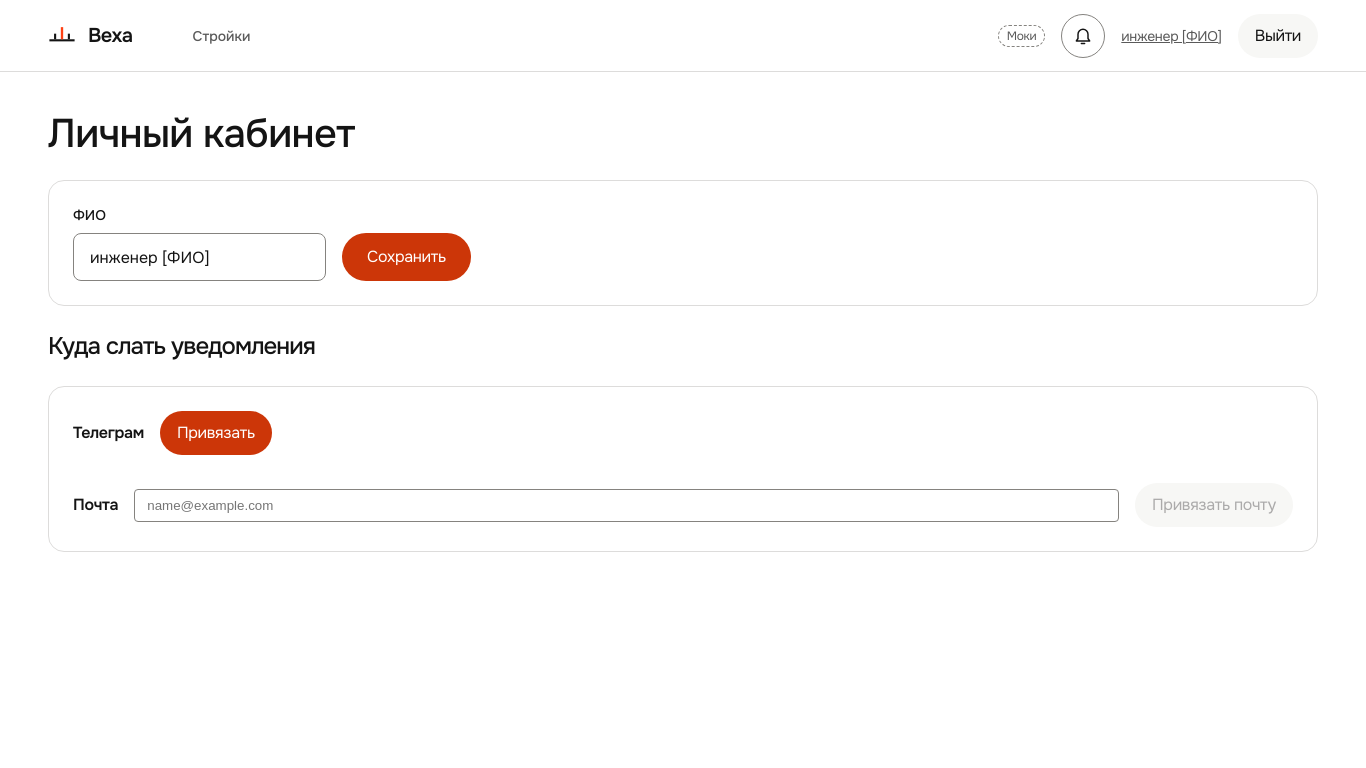
Личный кабинет › почта › после отправки просит перейти по ссылке из письма
The width and height of the screenshot is (1366, 768).
In the field named "Адрес почты": (627, 505) [134,488,1119,522], type "ivan@example.com"
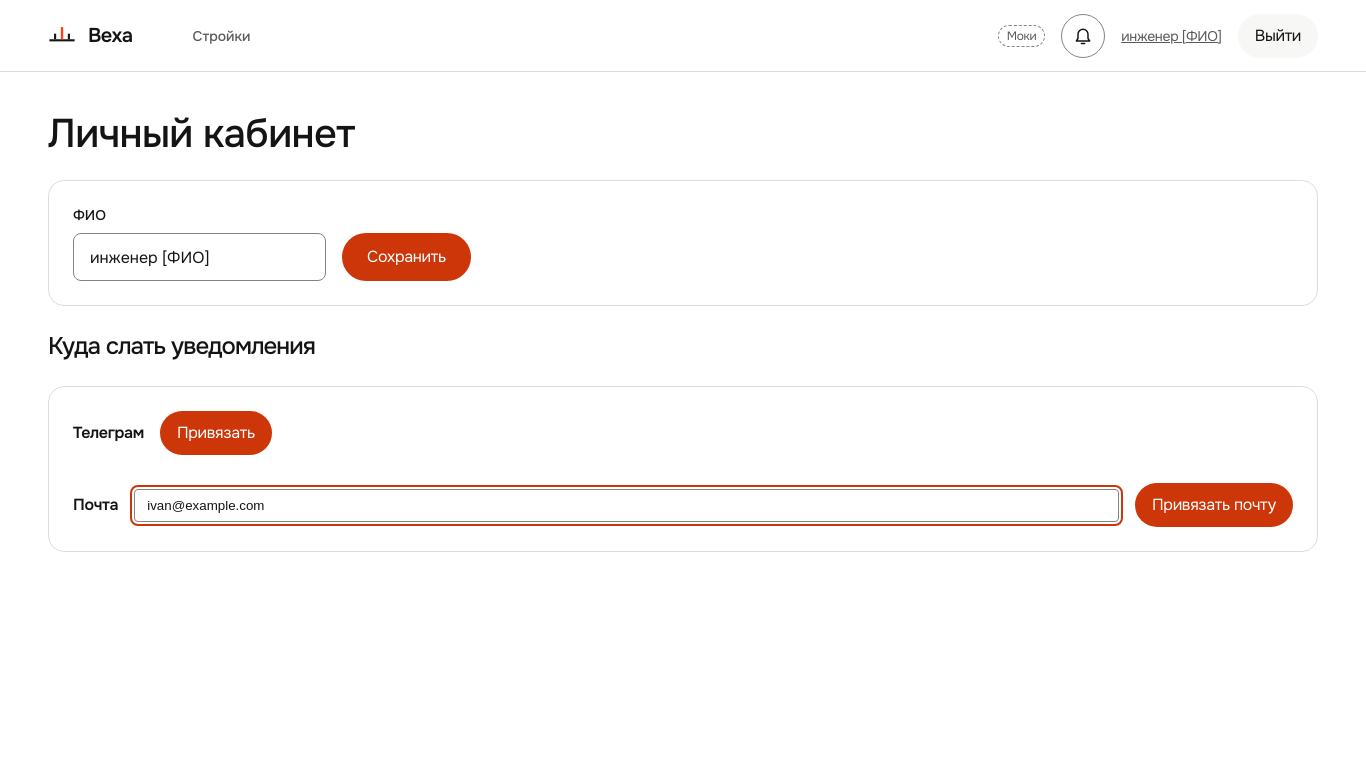
Click the button "Привязать почту": (1214, 505) [1135,483,1293,527]
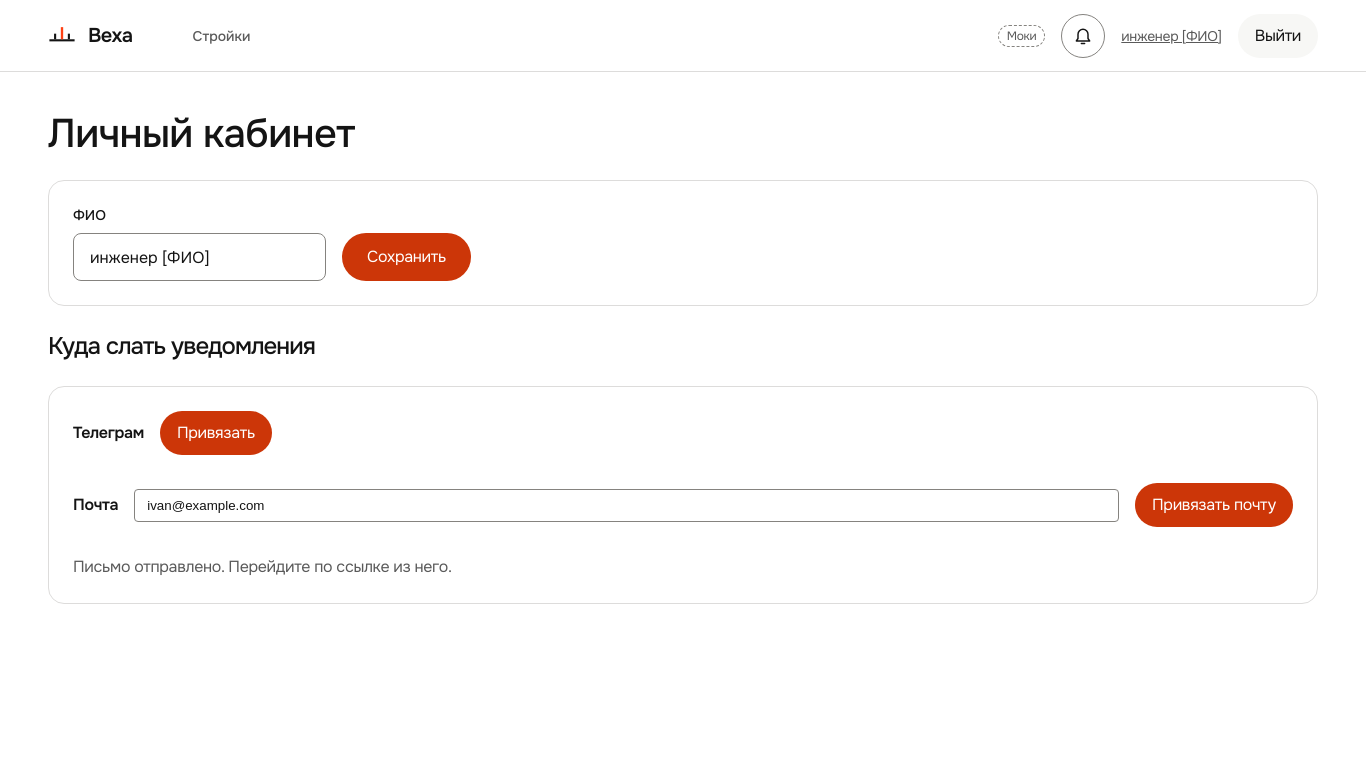
Now the text "Письмо отправлено. Перейдите по ссылке из него." is shown, box [73,556,452,577]
